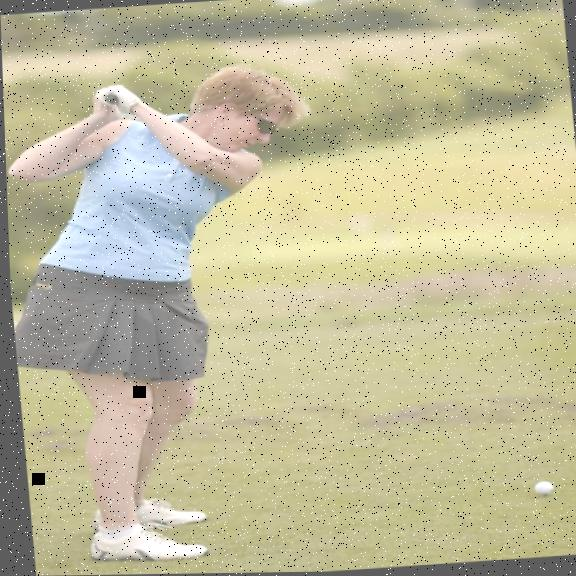GolfBall: (513, 476, 565, 500)
